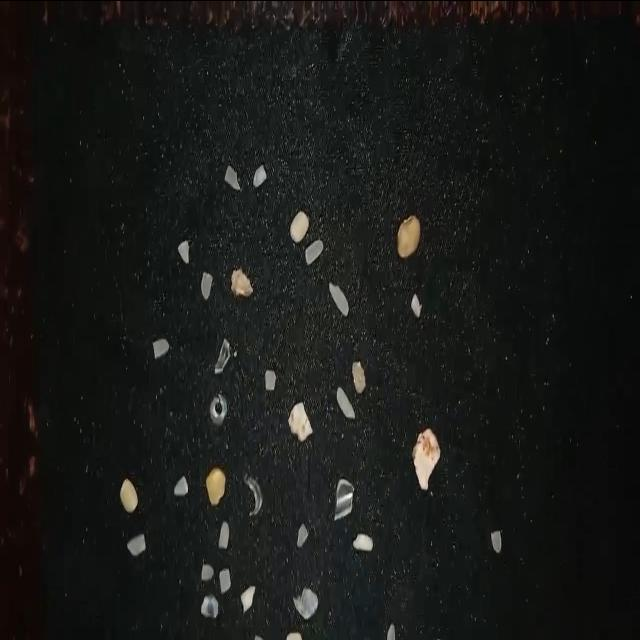Broken: (244, 473, 262, 516), (306, 239, 324, 264), (128, 532, 146, 554), (242, 584, 256, 612), (224, 165, 240, 189), (218, 520, 230, 548), (201, 270, 213, 298), (153, 338, 169, 358), (253, 164, 267, 186), (219, 568, 231, 592), (296, 522, 308, 546), (174, 475, 188, 495), (178, 240, 189, 262), (411, 292, 421, 316), (265, 368, 276, 389), (492, 530, 502, 552), (202, 564, 214, 580), (387, 623, 395, 640)
Full: (329, 281, 349, 315), (337, 386, 355, 418), (353, 533, 373, 550)
